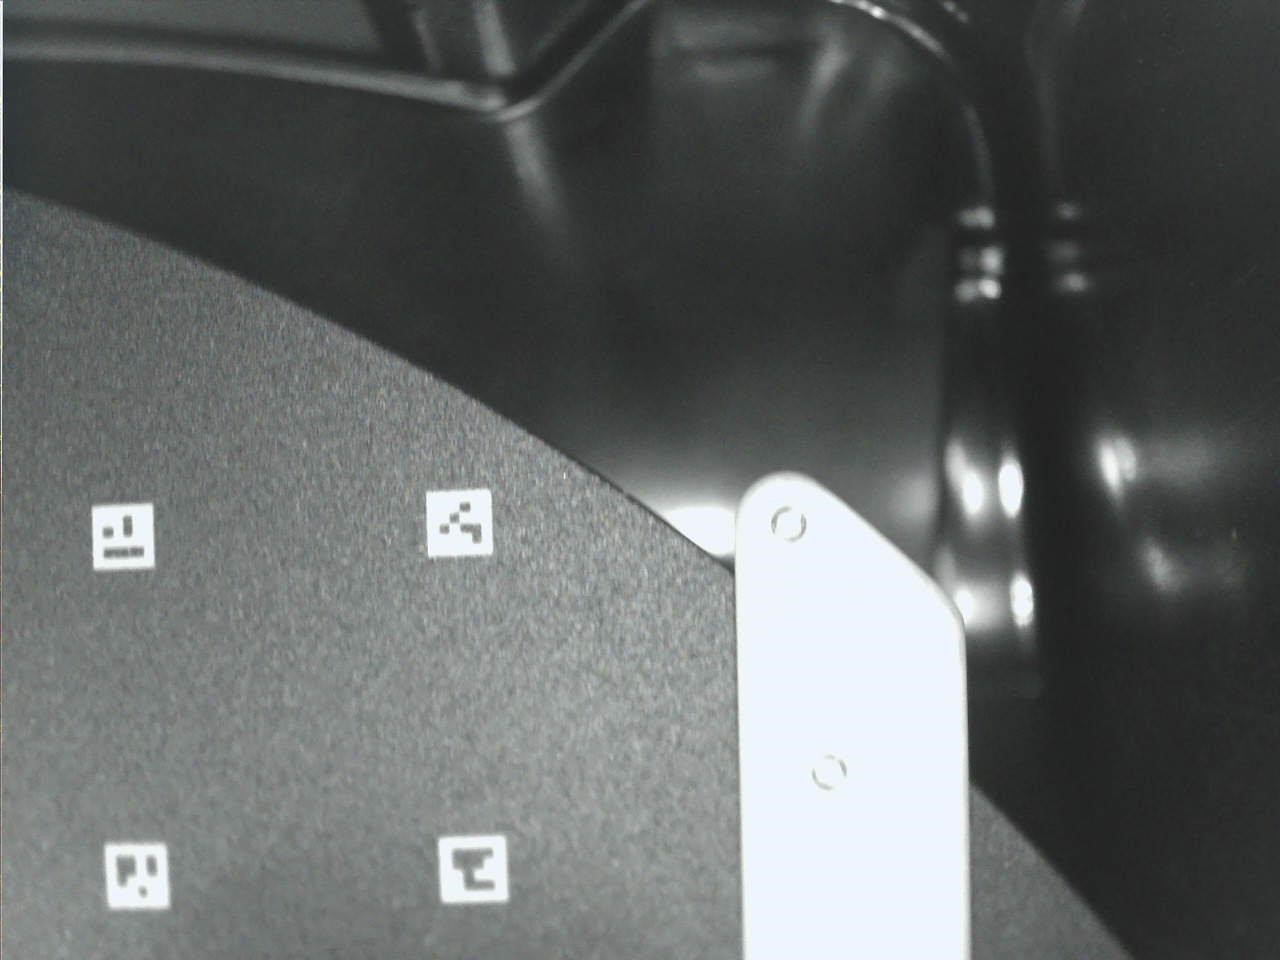forktip: (721, 446, 993, 960)
